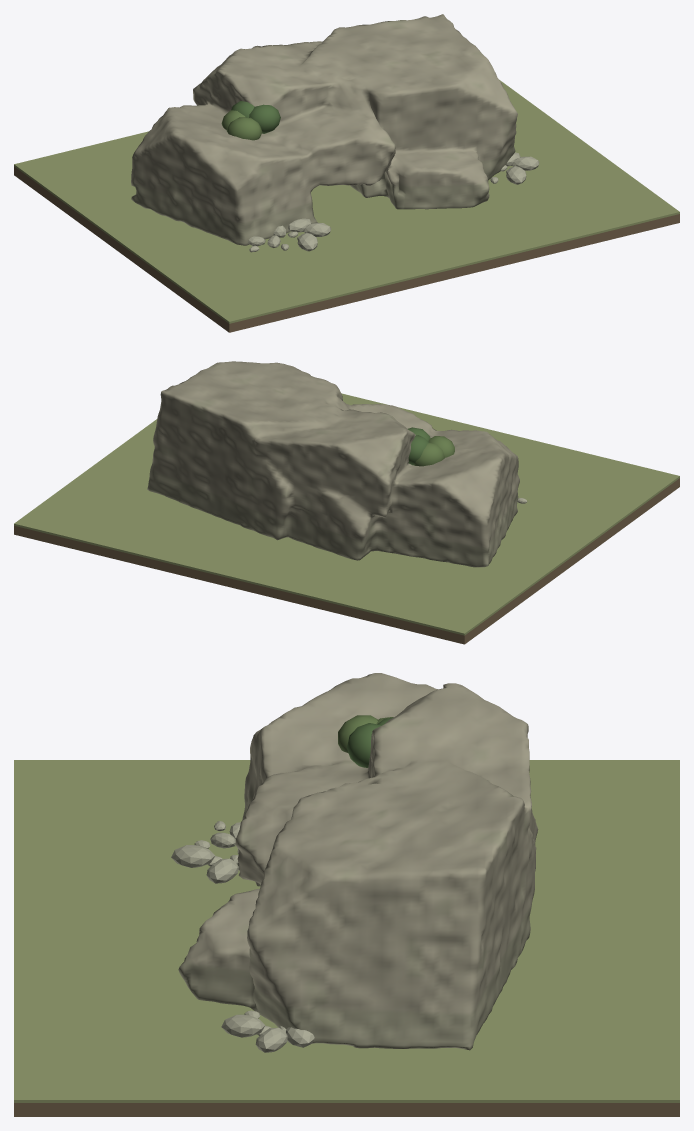
The model's file is gms-18.glb.
3 views of the same model, one above another, from view 1: azimuth 30°, elevation 25°; view 2: azimuth 150°, elevation 25°; view 3: azimuth 270°, elevation 25° (orthographic). The views are drawn at different scales.
Parts seen in each view (by area): view 1: GMS-18 - estudio del paisaje; view 2: GMS-18 - estudio del paisaje; view 3: GMS-18 - estudio del paisaje.
Boxes of the visible parts, <box> form: GMS-18 - estudio del paisaje: <box>14,14,679,332</box>; GMS-18 - estudio del paisaje: <box>14,361,679,644</box>; GMS-18 - estudio del paisaje: <box>14,673,679,1116</box>.
Size of the model in its own units: 11.6 by 3.09 by 9.6.
